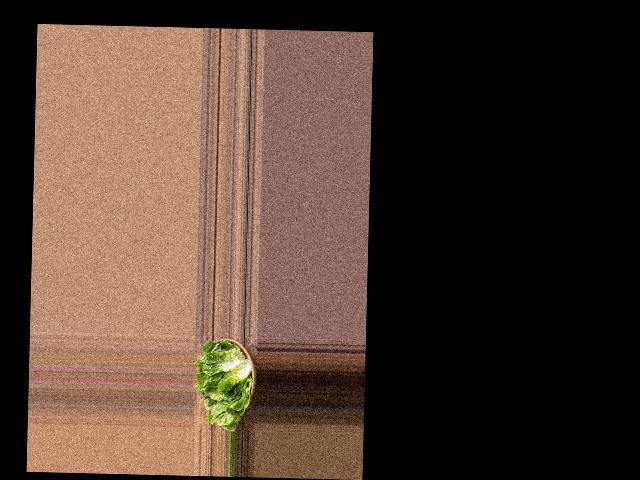lettuce: (195, 334, 256, 430)
